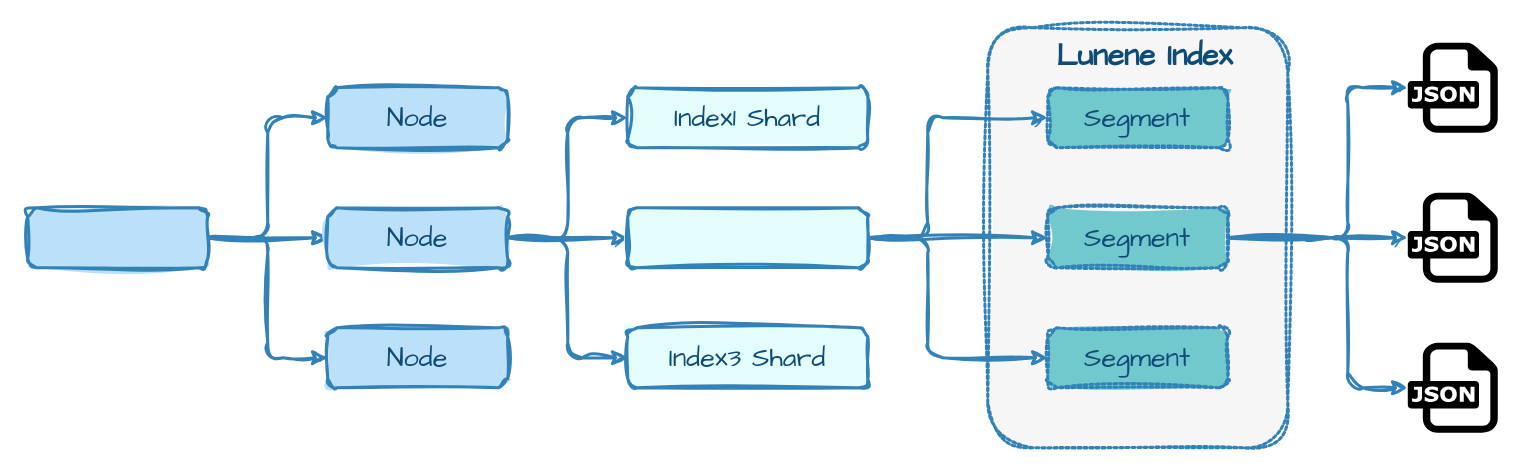
Some shapes in this 1524 by 474 pixel diagram are drawn without their labels. The centre of each missing label's shape, as x and y in pixels:
Cluster: [117,237]
Index2 Shard: [747,237]
